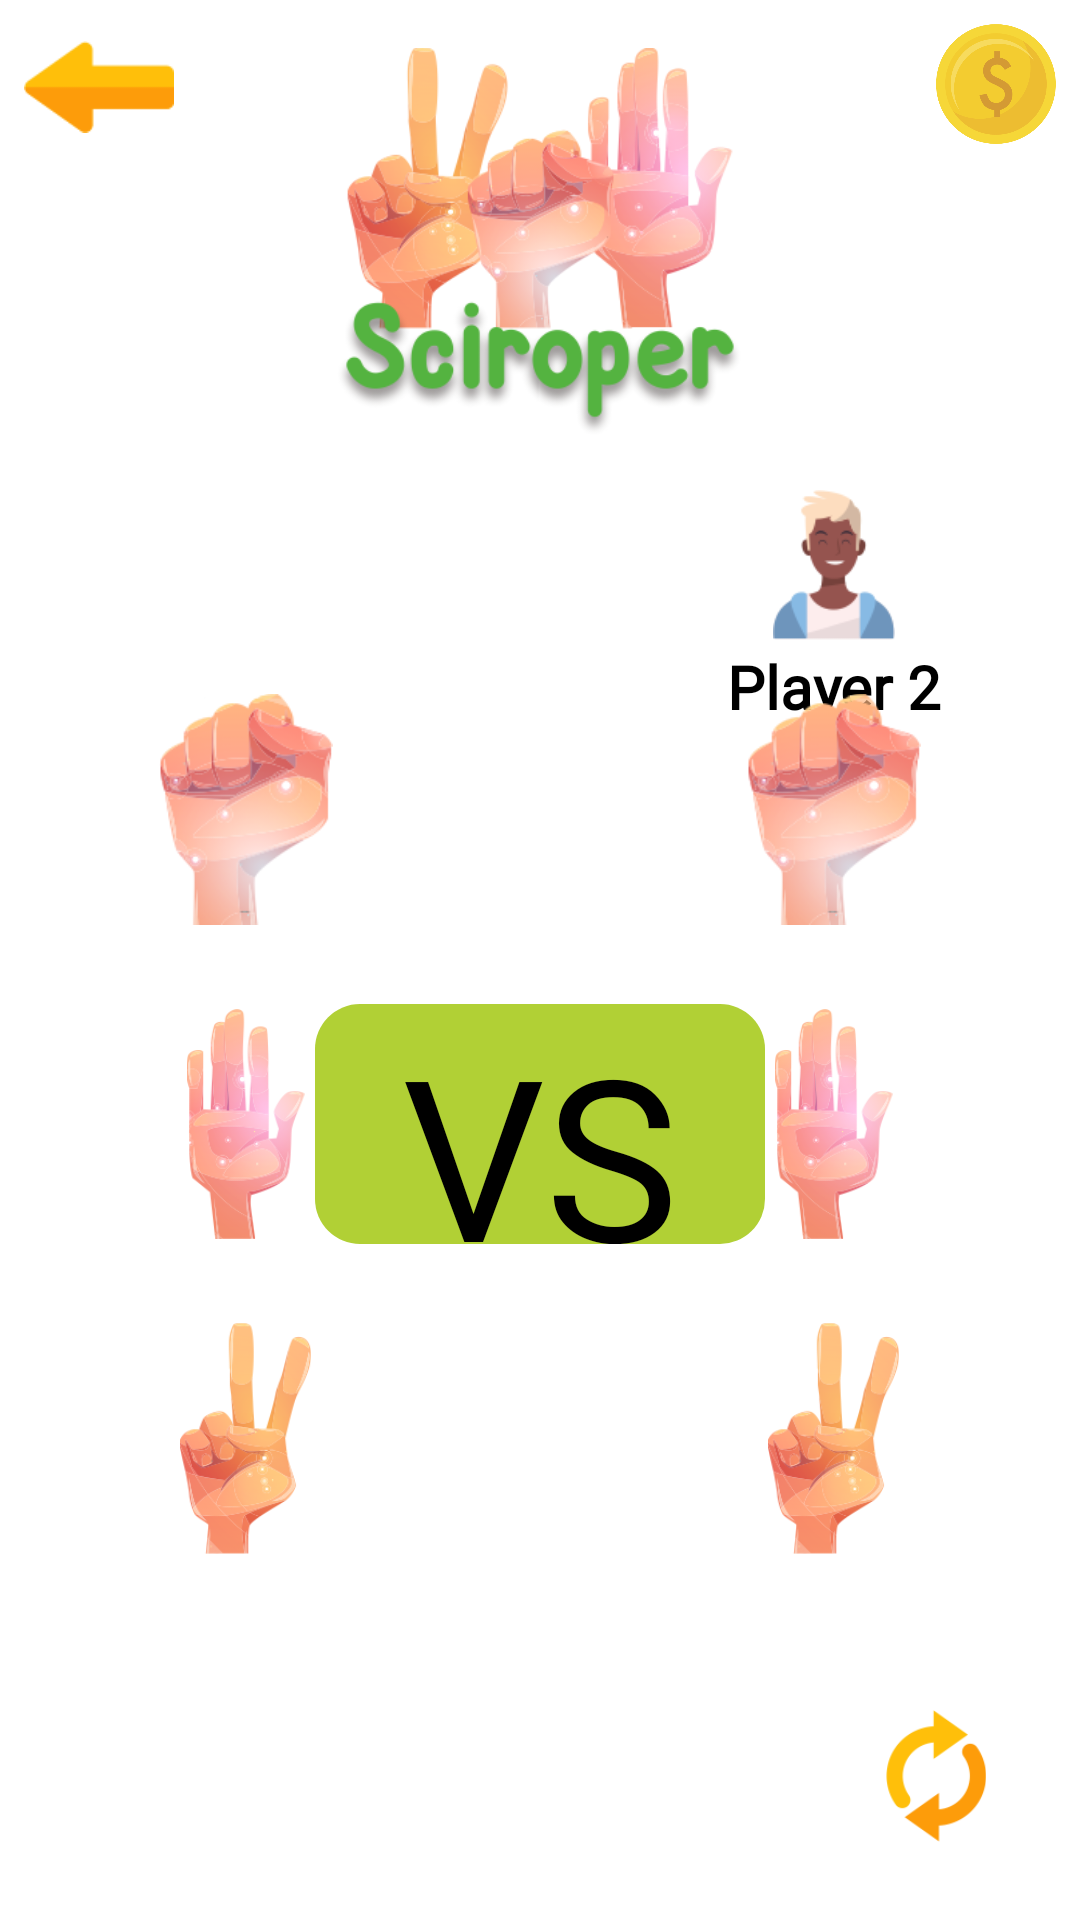

Locate icon controls on the screen. Image size 1080x1920, boxes as bbox=[x1, y1, x2, y2].
back: bbox=[24, 41, 174, 133]
coin: bbox=[936, 24, 1056, 144]
refresh: bbox=[886, 1710, 986, 1841]
Scissors: bbox=[180, 1323, 311, 1554], bbox=[768, 1323, 899, 1554]
